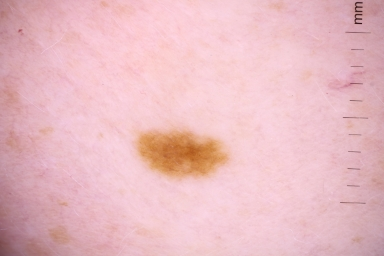nevus: (135, 131, 229, 179)
